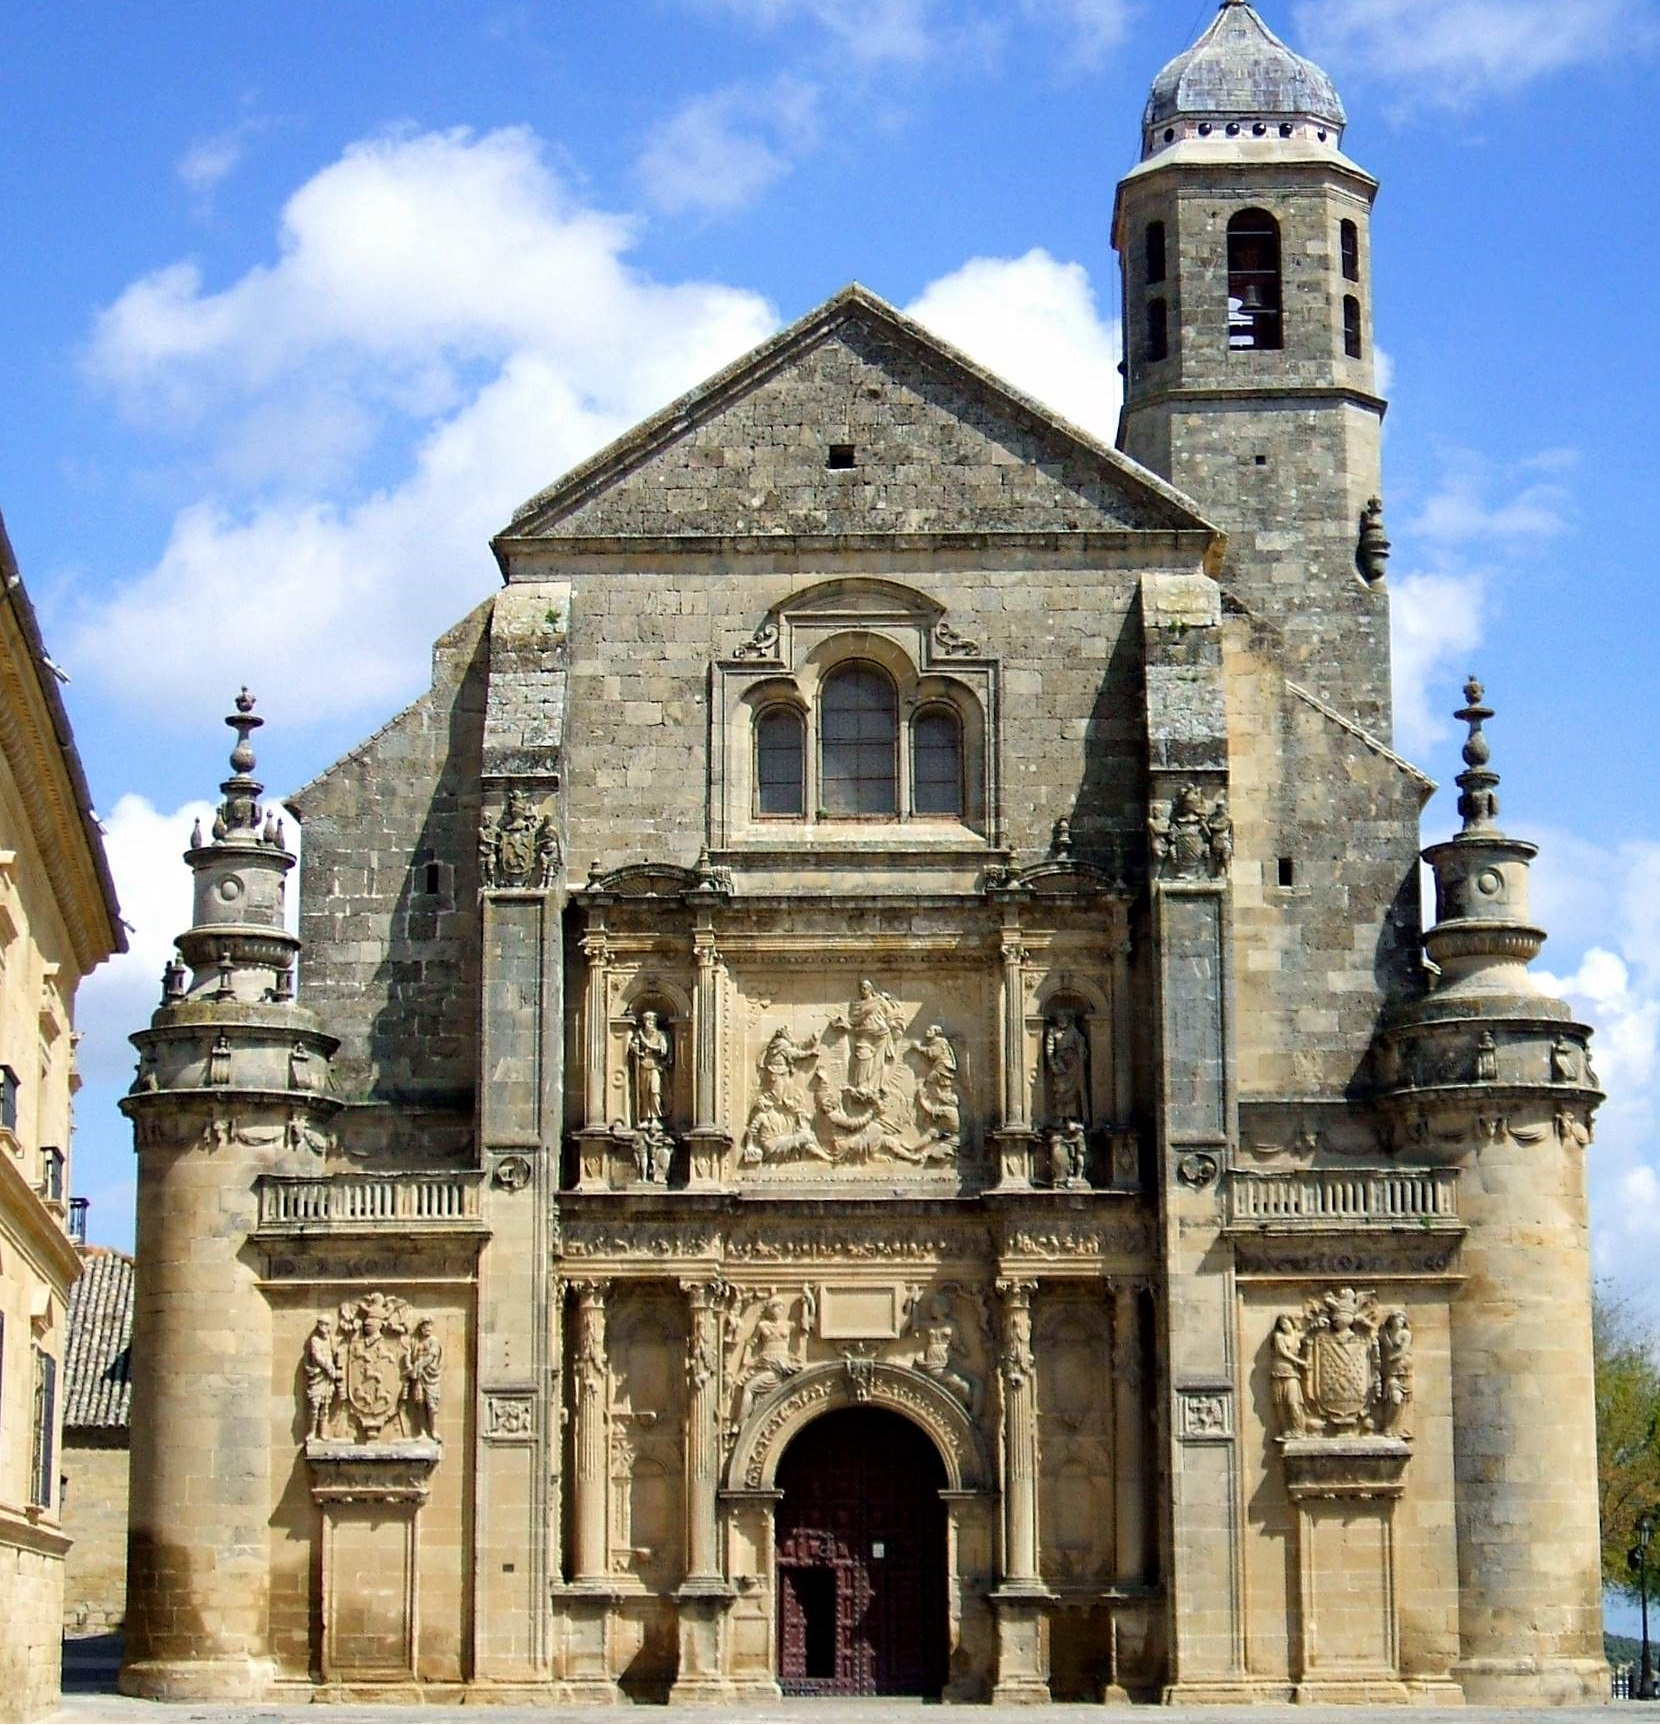arco-medio-punto: (761, 1392, 958, 1525)
fronton: (484, 273, 1232, 554)
fronton-curvo: (765, 570, 950, 622)
